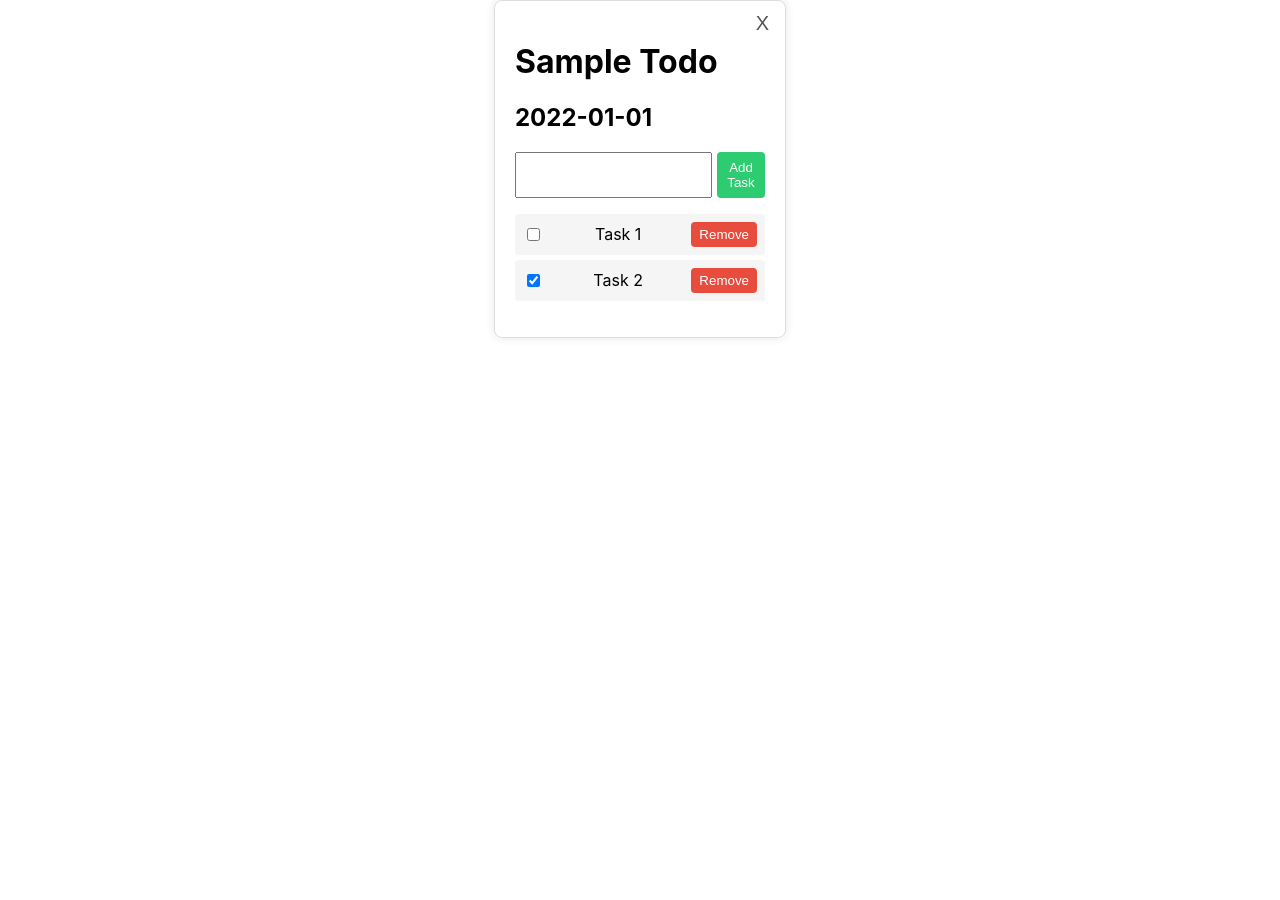
Scenario: TodoTemplate Component Test › Add Task 버튼 클릭 시 task 데이터가 없으면 alert 메세지가 발생한다.
// task 입력 없이 Add Task 클릭
Click the button "Add Task". click: (741, 175)
box: left=717, top=152, right=765, bottom=198
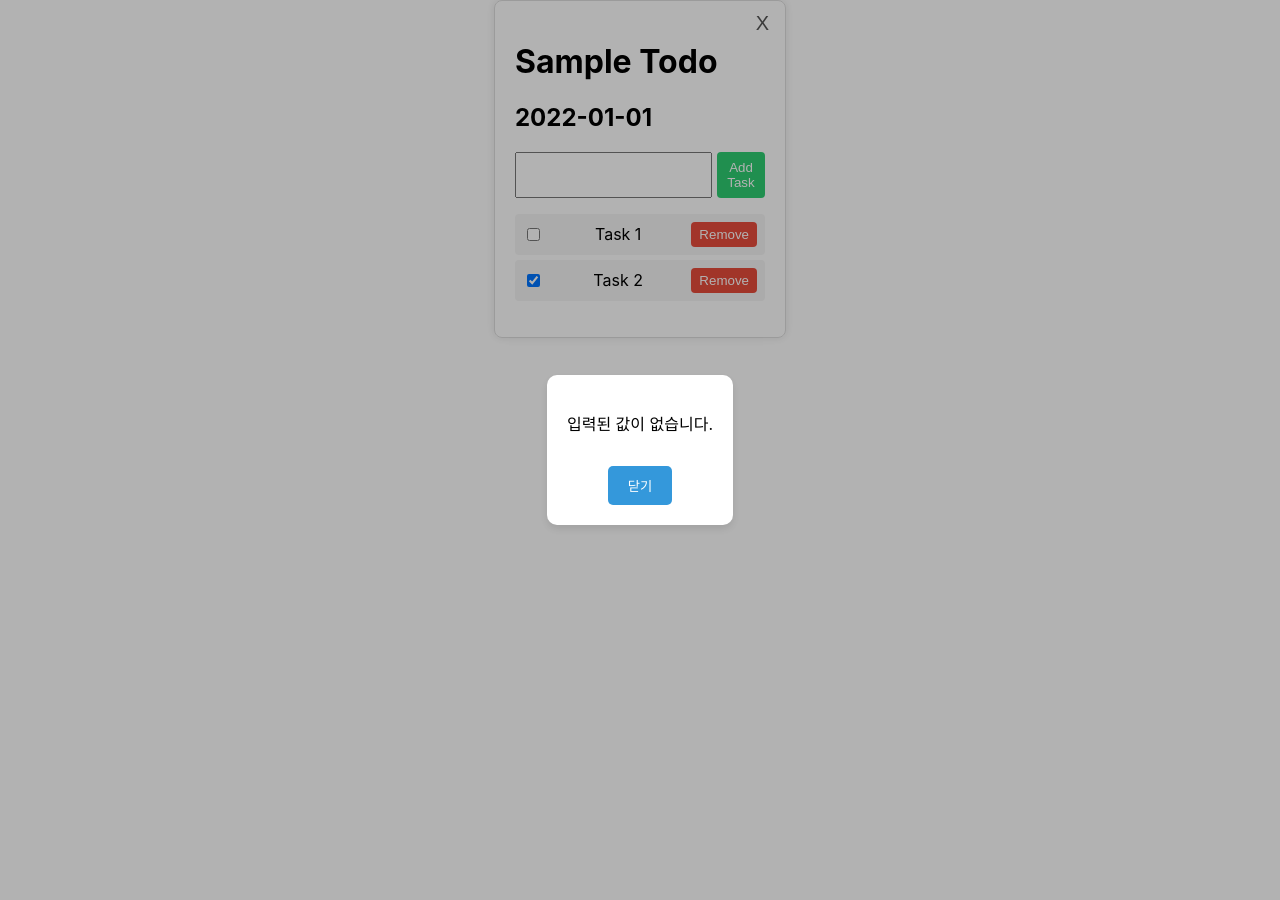
Check: the text "입력된 값이 없습니다." is shown, box left=567, top=411, right=713, bottom=435
